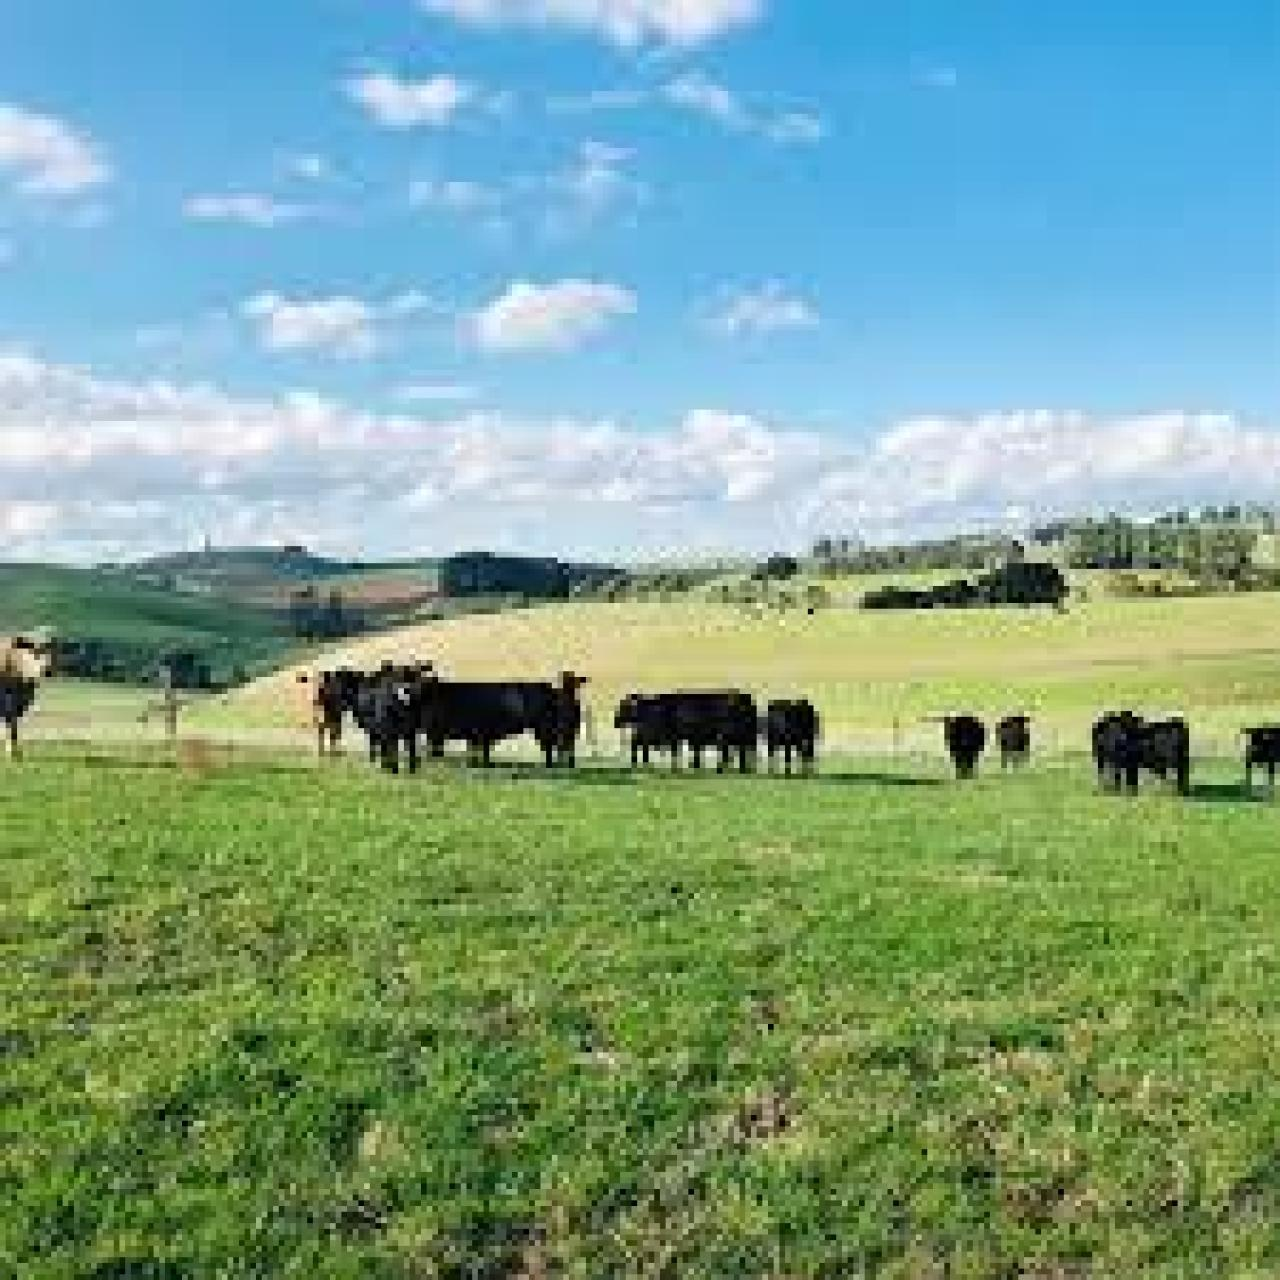cow: (0, 622, 86, 765), (421, 676, 546, 762), (608, 692, 706, 782), (754, 700, 839, 779), (299, 668, 367, 760), (1089, 702, 1146, 794), (375, 660, 421, 762), (1152, 714, 1198, 811), (543, 669, 588, 765), (949, 703, 983, 782), (1246, 728, 1280, 797), (995, 712, 1035, 768)
